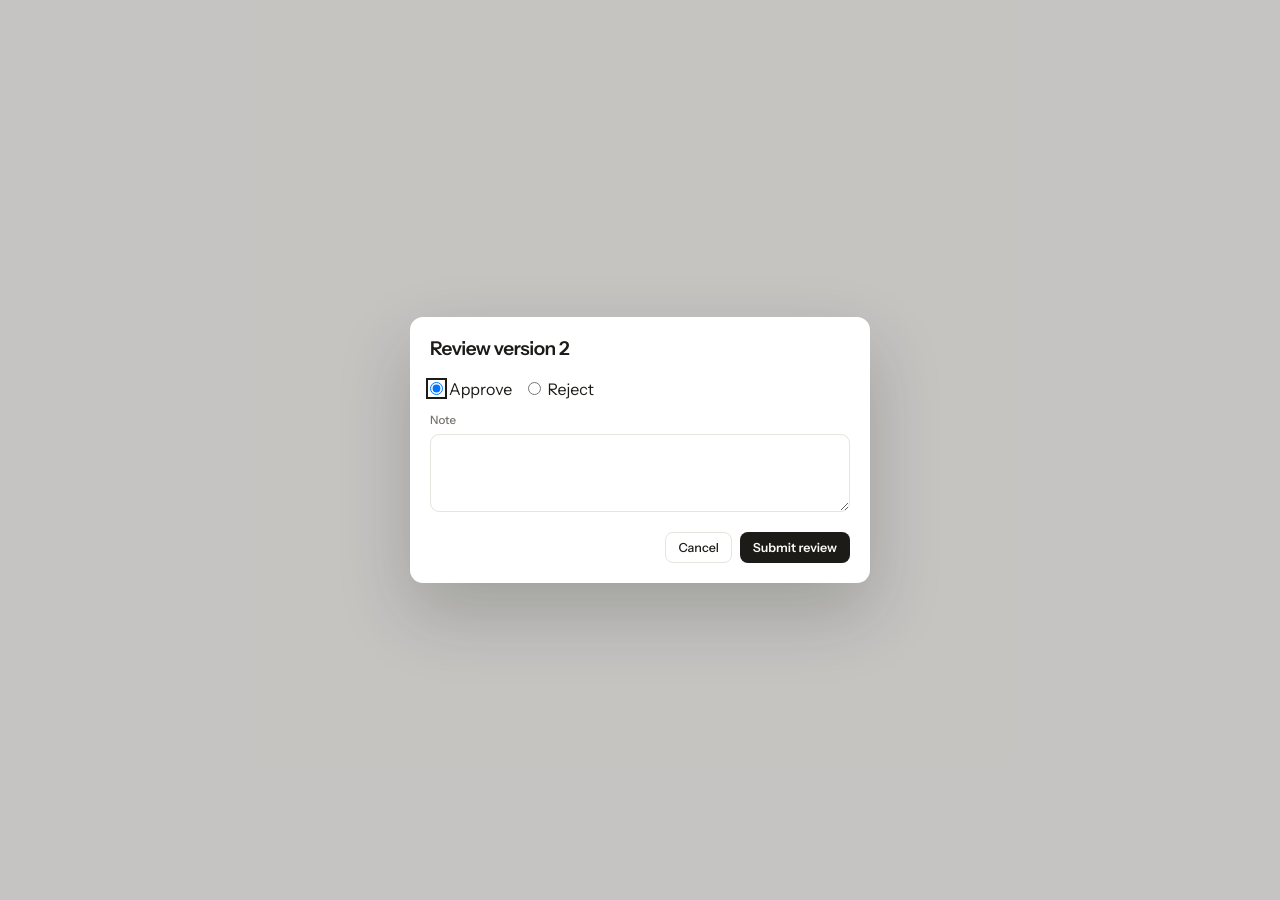
Scenario: ReviewDialog › enables submit once a note is entered for a rejection
Click the radio button labelled "Reject" at (535, 388), box top-left (528, 382), bottom-right (541, 395)
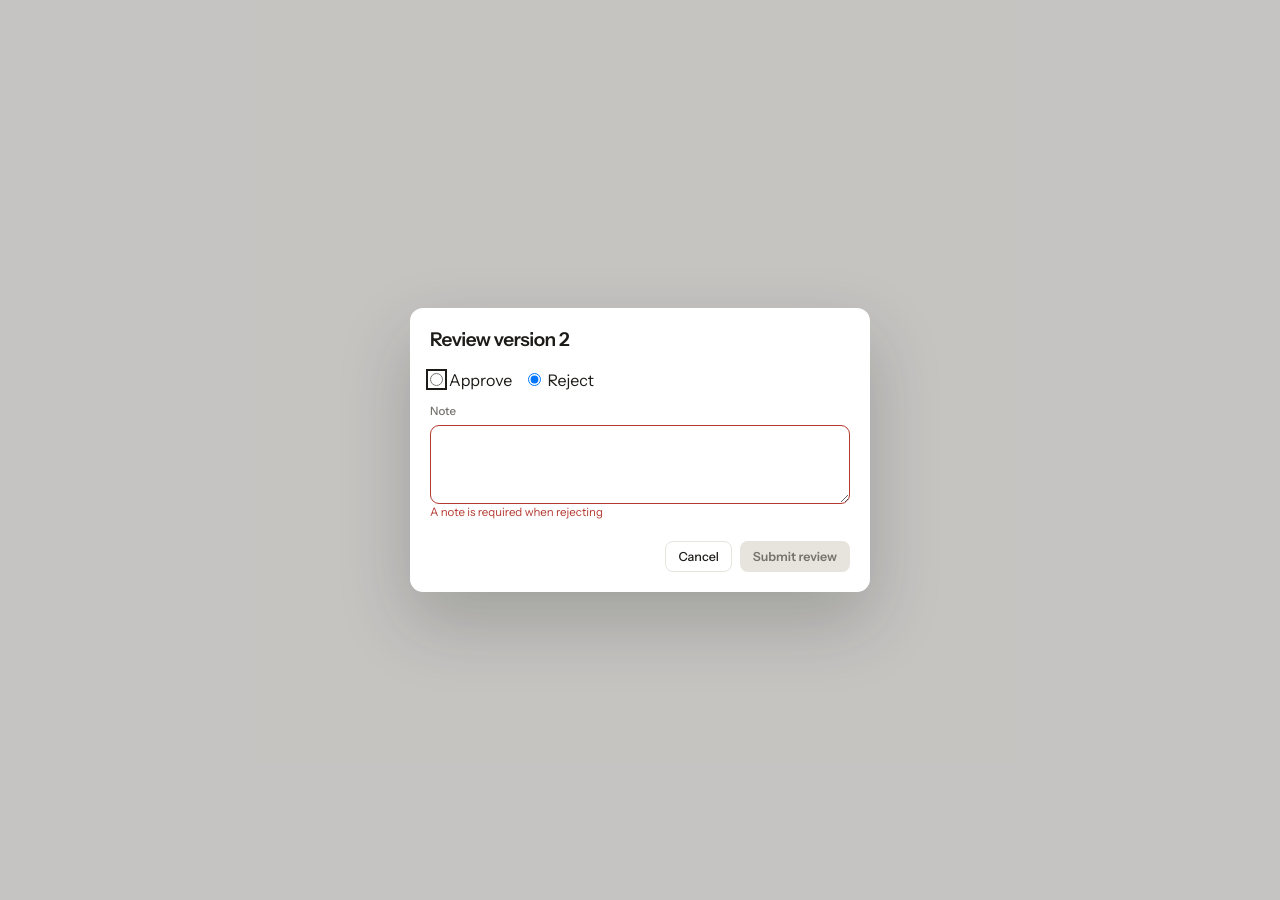
Type "Missing signature page" into the text box labelled "Note" at (640, 464), box top-left (430, 425), bottom-right (850, 504)
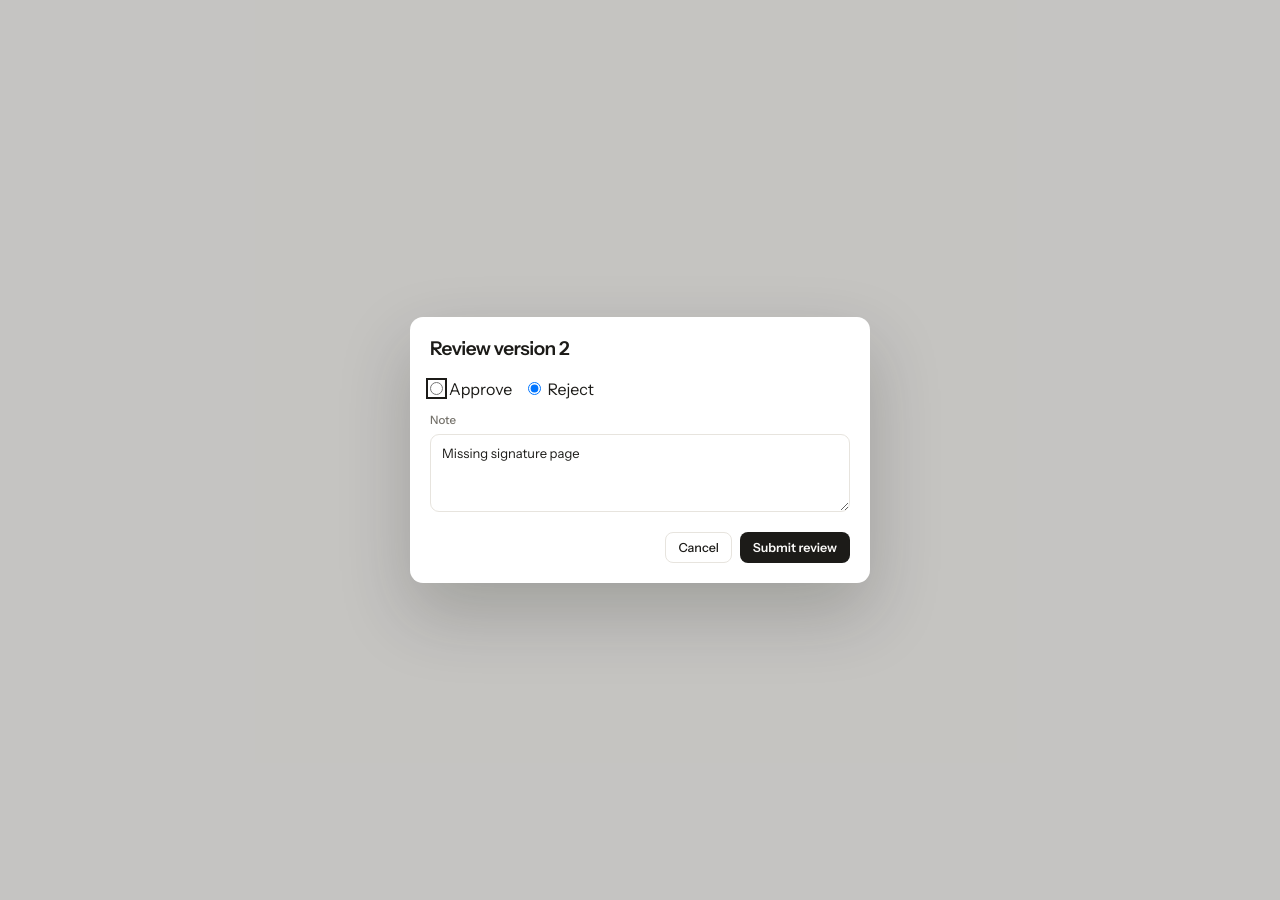
Now the button "Submit review" is enabled, box top-left (740, 532), bottom-right (850, 563)
